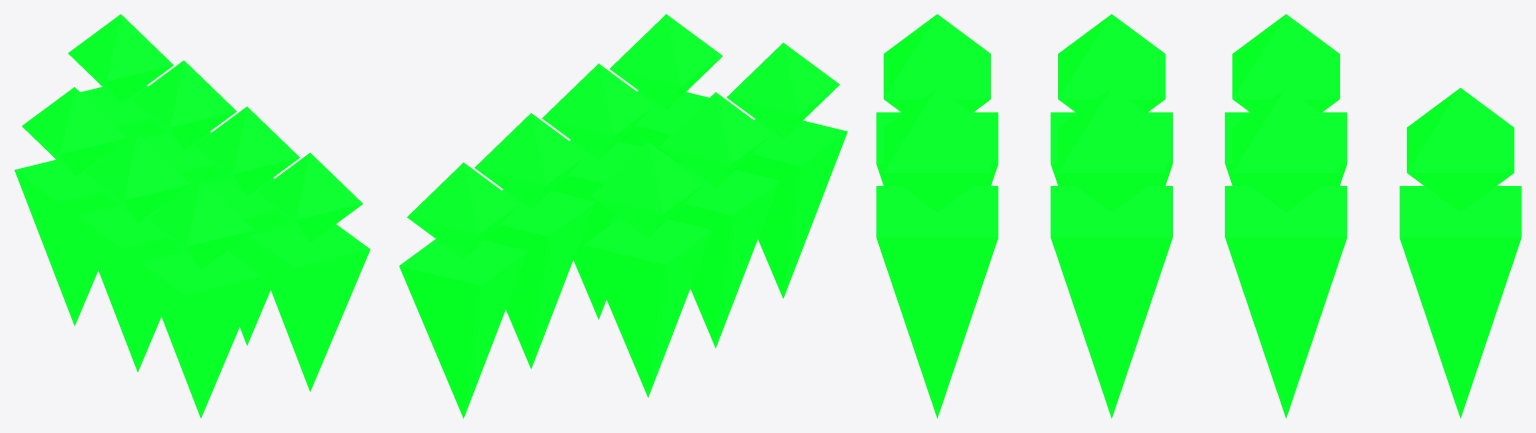
The model's file is person_g07.glb.
3 views of the same model, side by side, from view 1: azimuth 30°, elevation 25°; view 2: azimuth 150°, elevation 25°; view 3: azimuth 270°, elevation 25° (orthographic). The views are drawn at different scales.
Parts seen in each view (by area): view 1: person.012, person.011, person.014, person.016, person.013, person.017, person.015; view 2: person.017, person.016, person.012, person.015, person.014, person.013, person.011; view 3: person.011, person.017, person.013, person.015, person.012, person.014, person.016.
Boxes of the visible parts, x1,y1,x2,y2 form: person.012: [140, 179, 260, 418]; person.011: [250, 152, 370, 391]; person.014: [77, 133, 190, 372]; person.016: [14, 87, 127, 325]; person.013: [194, 106, 299, 345]; person.017: [68, 14, 173, 159]; person.015: [131, 60, 236, 205]; person.017: [399, 162, 527, 418]; person.016: [584, 141, 712, 397]; person.012: [726, 42, 847, 298]; person.015: [474, 113, 595, 368]; person.014: [659, 92, 779, 348]; person.013: [542, 63, 655, 319]; person.011: [610, 14, 722, 169]; person.011: [876, 88, 998, 418]; person.017: [1399, 88, 1521, 418]; person.013: [1050, 88, 1172, 418]; person.015: [1225, 88, 1347, 418]; person.012: [876, 14, 998, 185]; person.014: [1050, 14, 1172, 185]; person.016: [1225, 14, 1347, 185].
Size of the model in its own units: 1.7 by 2.1 by 3.7.
